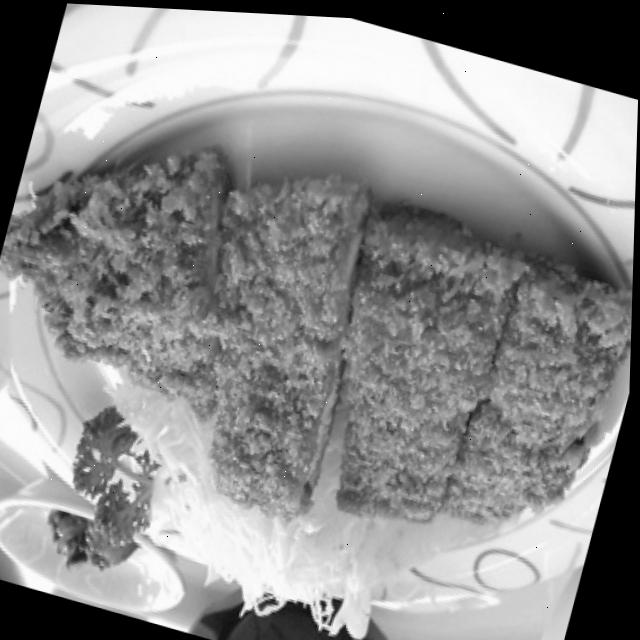鸡肉料理 含炸鸡: (0, 67, 638, 592)
